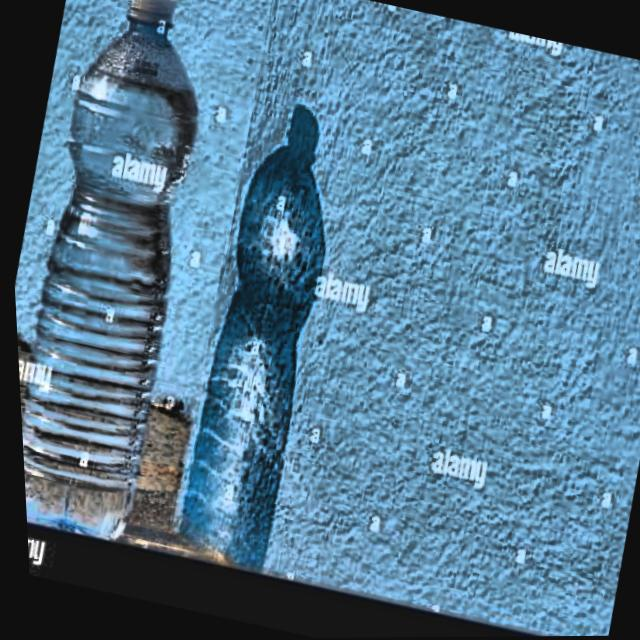Bottles: (0, 0, 274, 575)
